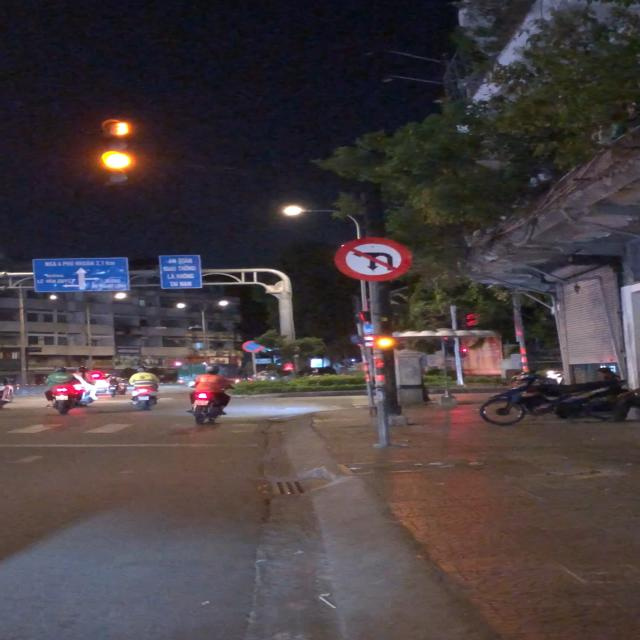Bien bao cam re trai va quay dau: (332, 235, 419, 286)
